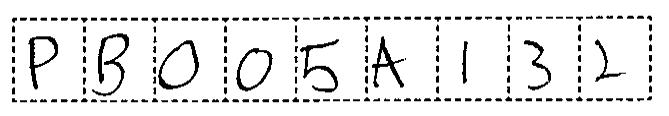0: (158, 35, 202, 93), (232, 43, 276, 92)
1: (448, 37, 484, 90)
2: (588, 38, 631, 86)
3: (516, 35, 559, 92)
5: (299, 40, 345, 94)
A: (369, 29, 415, 92)
B: (89, 29, 134, 98)
P: (21, 34, 69, 92)
